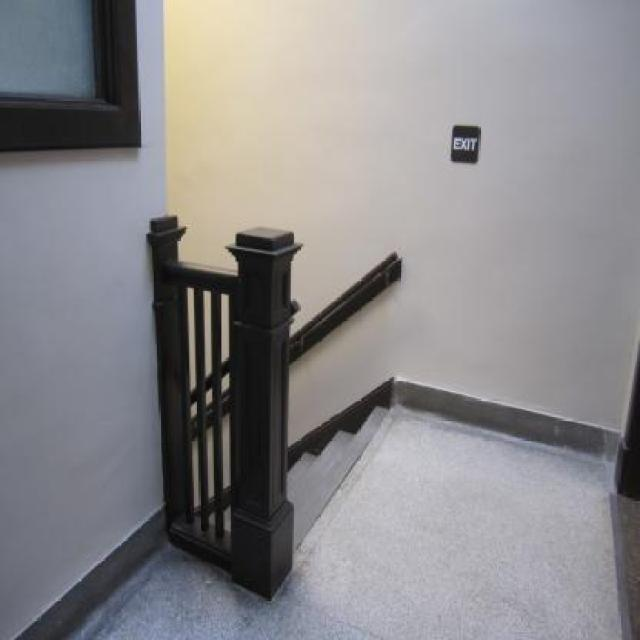stair: (210, 402, 392, 556)
